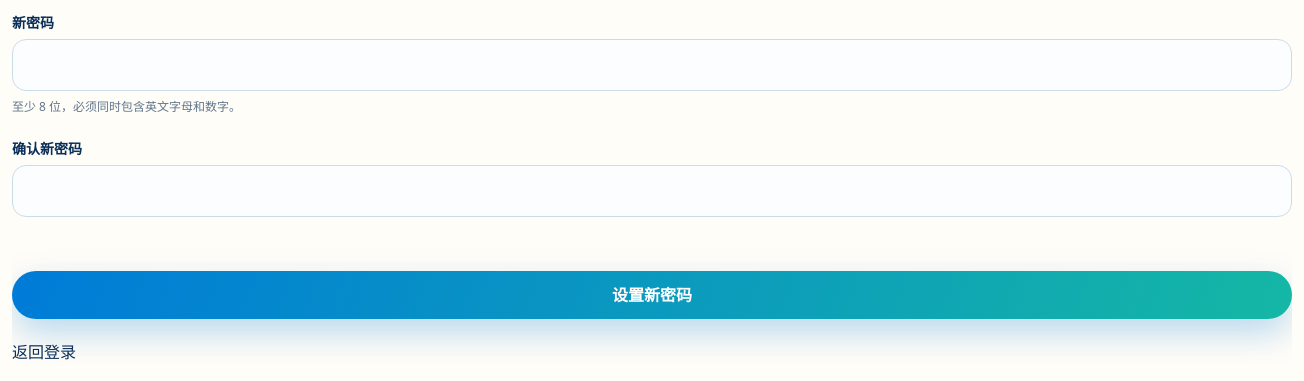
Test: password forms › applies the shared policy before submitting the reset form
Type "abcdefgh" into the password field labelled "新密码".
click(652, 65); type("abcdefgh")  # box [12,39,1292,91]
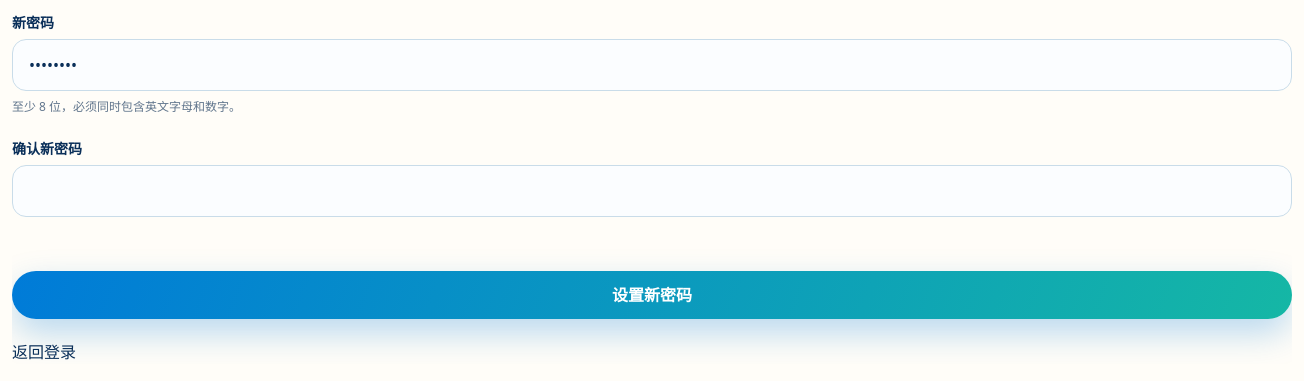
Type "abcdefgh" into the password field labelled "确认新密码".
click(652, 191); type("abcdefgh")  # box [12,165,1292,217]
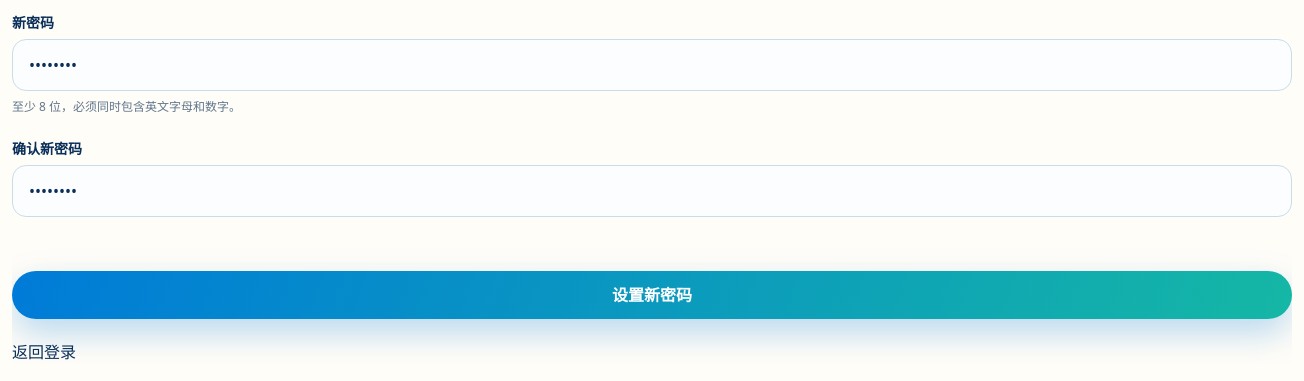
Submit the form labelled "新密码"
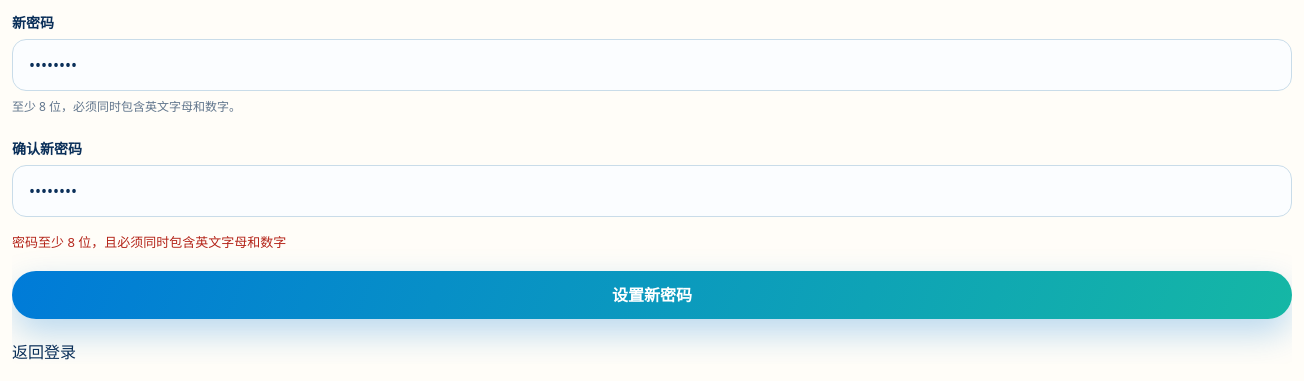
Expected: the text "密码至少 8 位，且必须同时包含英文字母和数字" is shown, [12,233,286,251]
